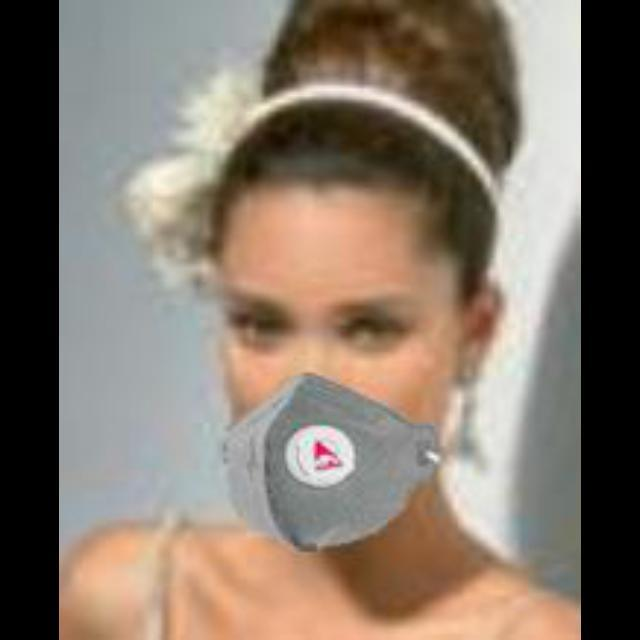suspicion: (210, 170, 478, 546)
